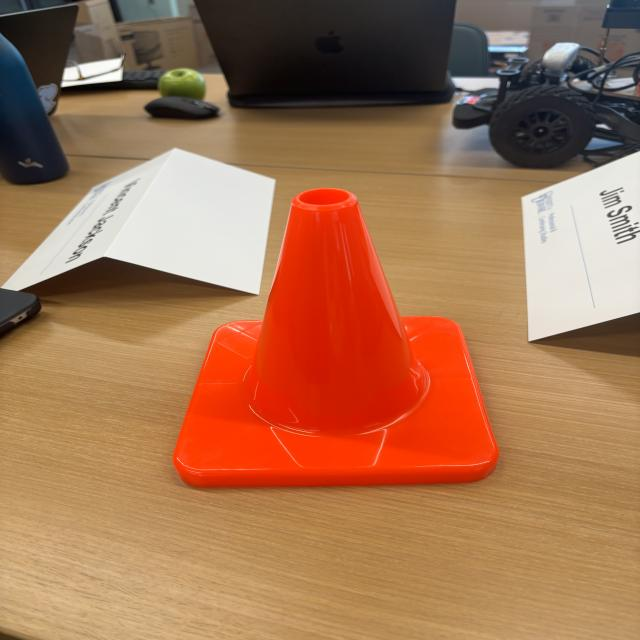Traffic Cone: (134, 167, 510, 497)
